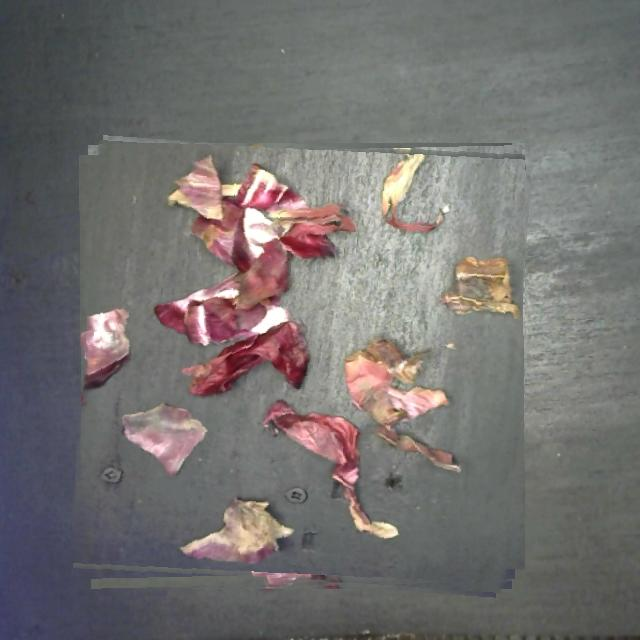biodegradable: (76, 143, 525, 591)
